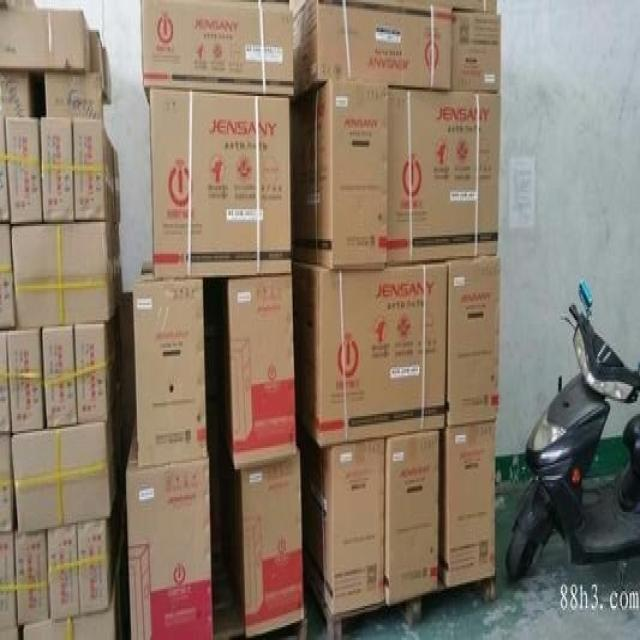box: (291, 260, 448, 448), (150, 87, 291, 279), (385, 90, 502, 265), (126, 414, 213, 640), (291, 79, 388, 271), (297, 425, 385, 617), (140, 0, 294, 109), (293, 0, 451, 100), (133, 260, 207, 467), (11, 403, 118, 535), (228, 273, 297, 471), (240, 446, 305, 640), (10, 220, 115, 329), (438, 422, 497, 589), (444, 254, 500, 429), (384, 429, 439, 606), (23, 567, 116, 640), (0, 9, 86, 75), (74, 311, 116, 425), (73, 119, 115, 224), (7, 326, 46, 435), (77, 506, 115, 617), (450, 11, 502, 92), (5, 117, 43, 224), (41, 324, 78, 429), (40, 117, 74, 224), (14, 531, 49, 627), (46, 525, 80, 621), (46, 75, 104, 124), (0, 224, 16, 329), (0, 533, 17, 629), (0, 73, 31, 117), (0, 435, 13, 533), (0, 329, 11, 435), (0, 117, 10, 224), (112, 220, 122, 314), (86, 28, 103, 75), (103, 47, 113, 105), (113, 149, 121, 220), (0, 627, 18, 640)
